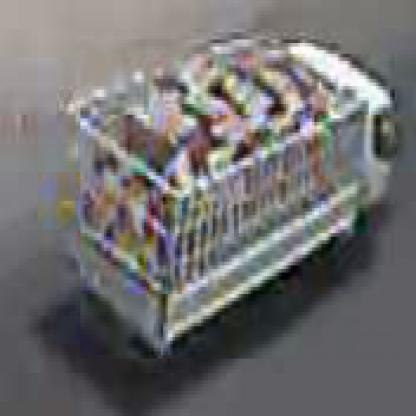truck: (79, 41, 396, 364)
